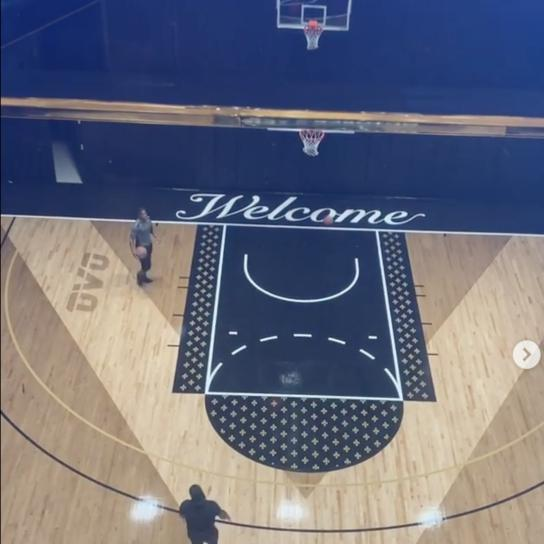basketball-hoop: (297, 127, 327, 156), (302, 24, 326, 50)
